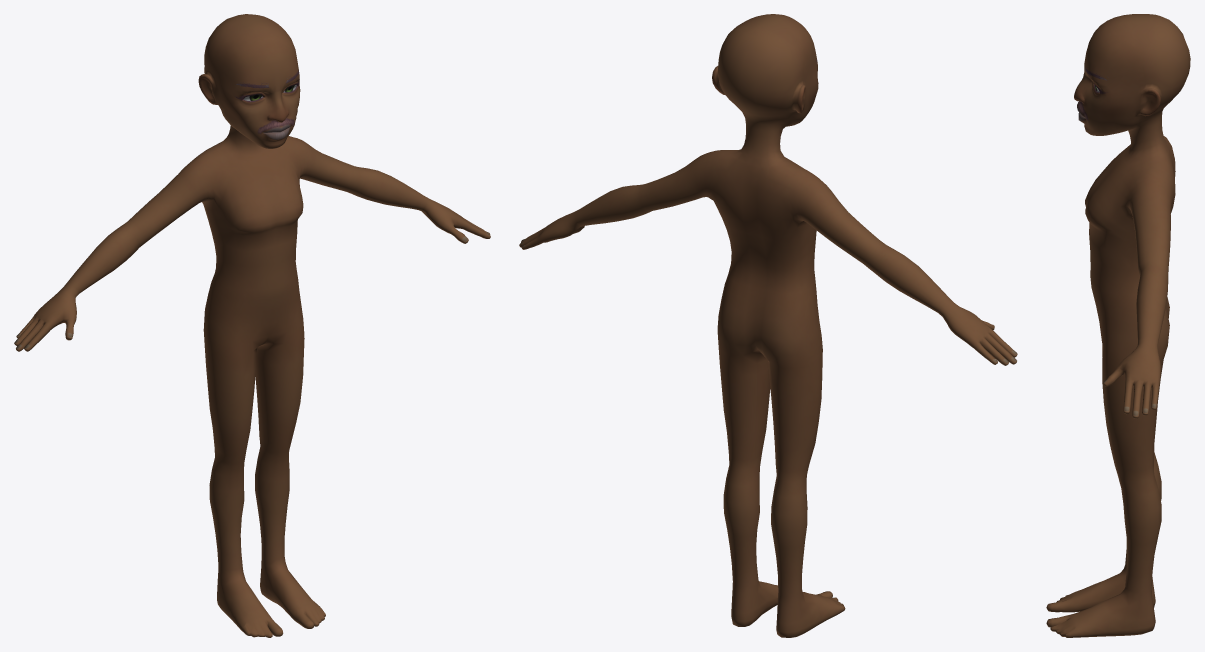
File: frame_0041.glb
The picture shows the model from 3 angles, left to right: view 1: azimuth 30°, elevation 25°; view 2: azimuth 150°, elevation 25°; view 3: azimuth 270°, elevation 25°; orthographic projection. The views are drawn at different scales.
Visible parts, largest first — view 1: frame_0041_head_geo; view 2: frame_0041_head_geo; view 3: frame_0041_head_geo.
Boxes of the visible parts, box(x1,y1,x2,y2) form: frame_0041_head_geo: box(14, 14, 490, 637); frame_0041_head_geo: box(519, 14, 1017, 637); frame_0041_head_geo: box(1046, 14, 1190, 637).
Bounding box in the file's own units: 1.28 × 1.5 × 0.3253.
Materials: 3 (3 with a texture image).
